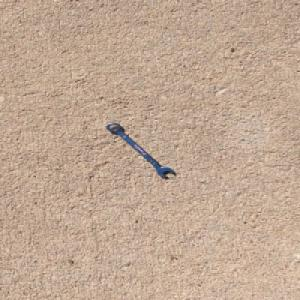Wrench: (105, 122, 175, 178)
